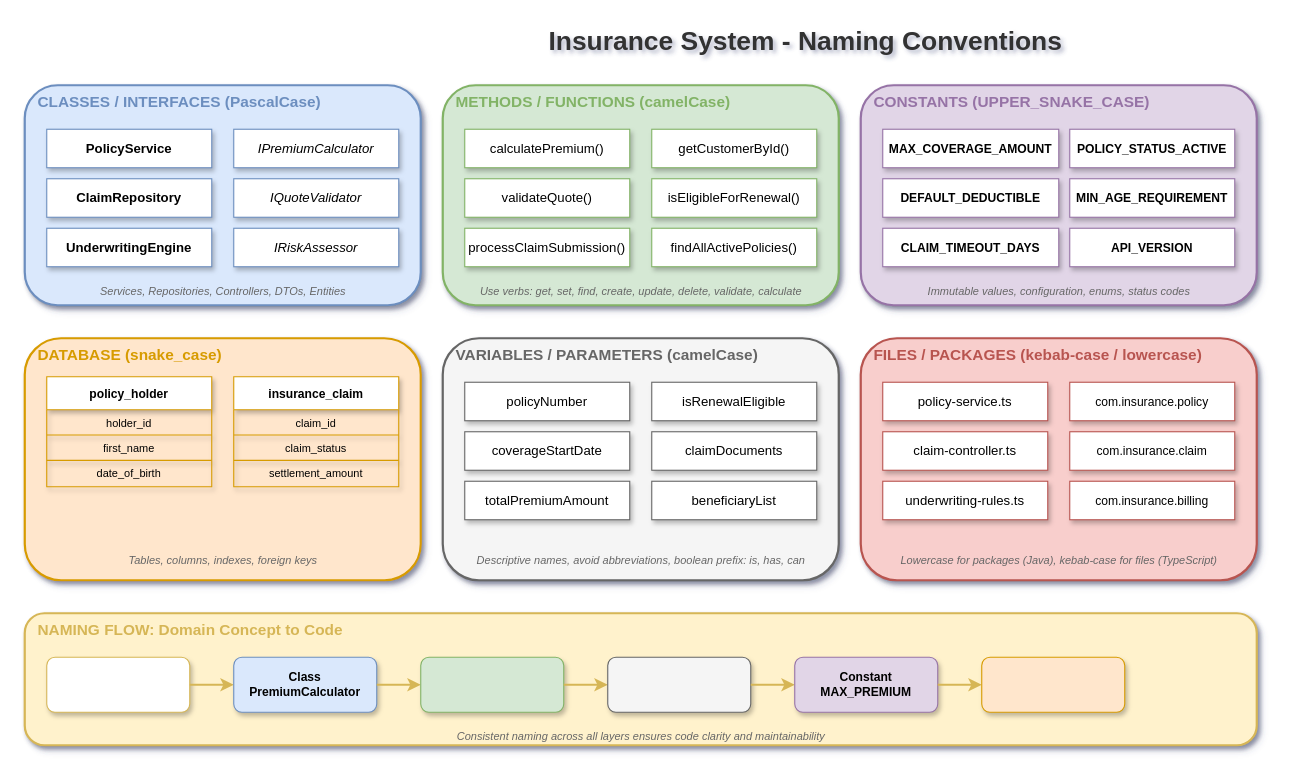
Image size: 1289x779. Some labels were removed from this diagram. The centre of each missing label's shape, as x and y in pixels:
"Database premium_amount" belongs at (1053,686).
"Domain Concept Premium Calculation" belongs at (118,686).
"Method calculatePremium()" belongs at (492,686).
"Variable premiumAmount" belongs at (679,686).
